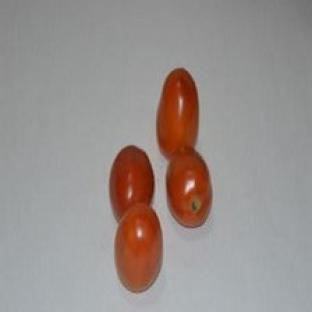Tomato: (115, 204, 162, 292), (156, 69, 199, 158), (166, 148, 211, 227), (109, 145, 154, 220)
